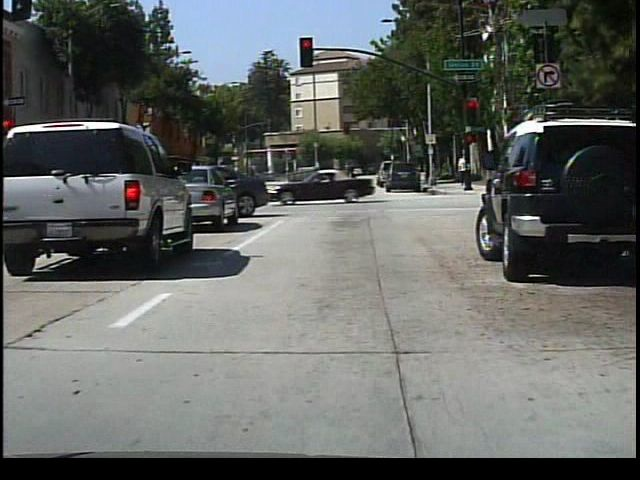person: (339, 158, 364, 200), (455, 149, 472, 189)
